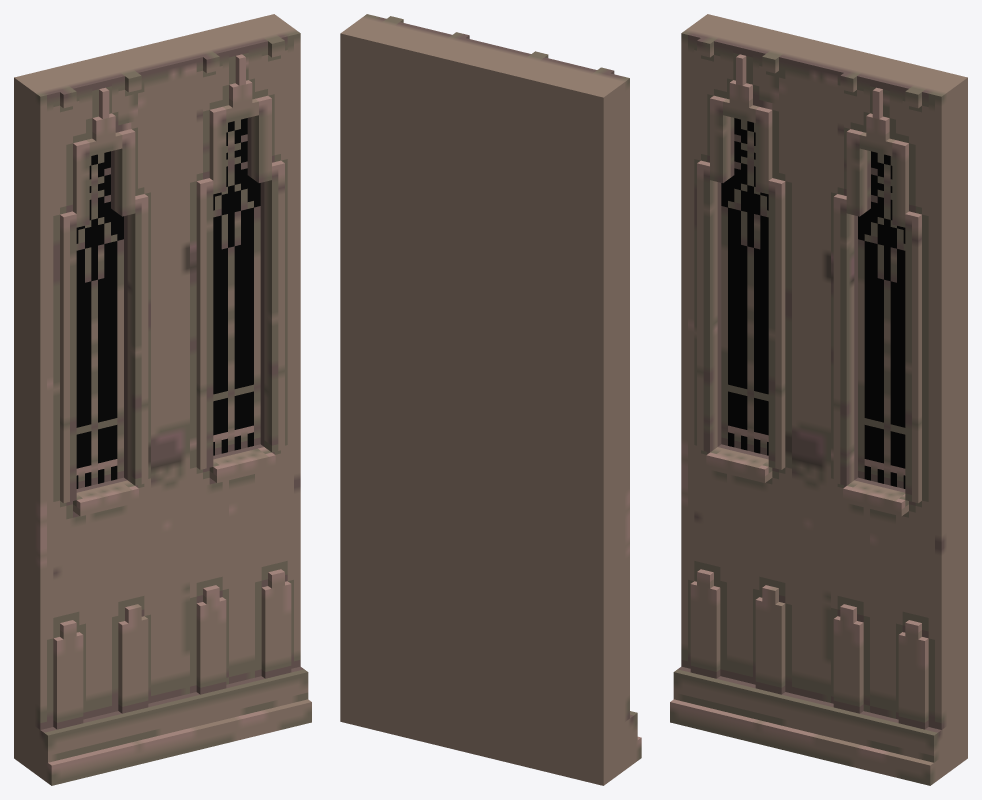
Rendered from Wall_Medium_Window_Chunk-0.fbx.
3 views of the same model, side by side, from view 1: azimuth 30°, elevation 25°; view 2: azimuth 150°, elevation 25°; view 3: azimuth 330°, elevation 25° (orthographic).
Visible parts, largest first — view 1: Wall_Medium_Window_Chunk-0; view 2: Wall_Medium_Window_Chunk-0; view 3: Wall_Medium_Window_Chunk-0.
Part boxes in pixels (left/top/right/bottom): Wall_Medium_Window_Chunk-0: left=14, top=14, right=311, bottom=785; Wall_Medium_Window_Chunk-0: left=340, top=14, right=641, bottom=785; Wall_Medium_Window_Chunk-0: left=670, top=14, right=967, bottom=785.
Size of the model in its own units: 200 by 500 by 50.
